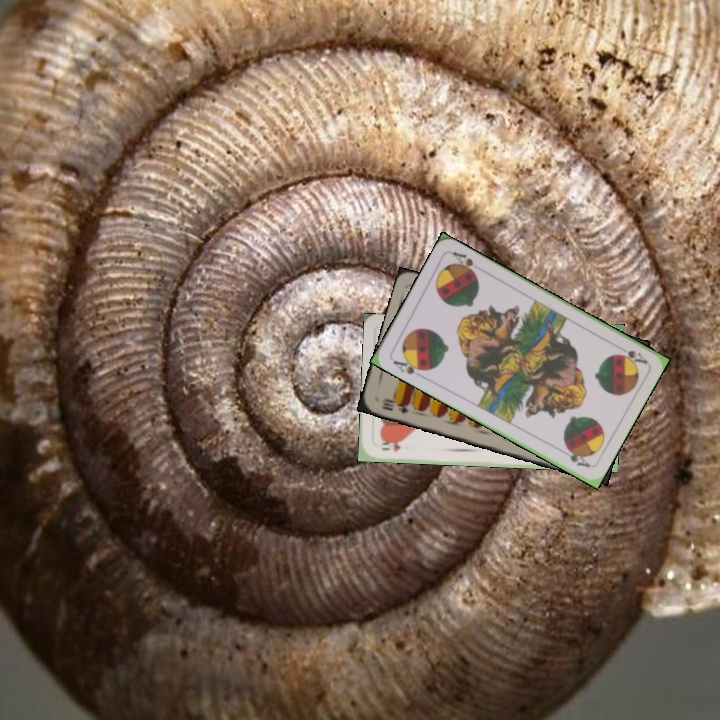E10: (377, 394, 412, 416)
HO: (377, 438, 403, 455)
SA: (389, 353, 429, 380), (612, 341, 650, 367)
